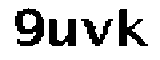9: (11, 5, 45, 52)
k: (115, 4, 151, 52)
u: (48, 16, 80, 52)
v: (82, 14, 112, 48)
